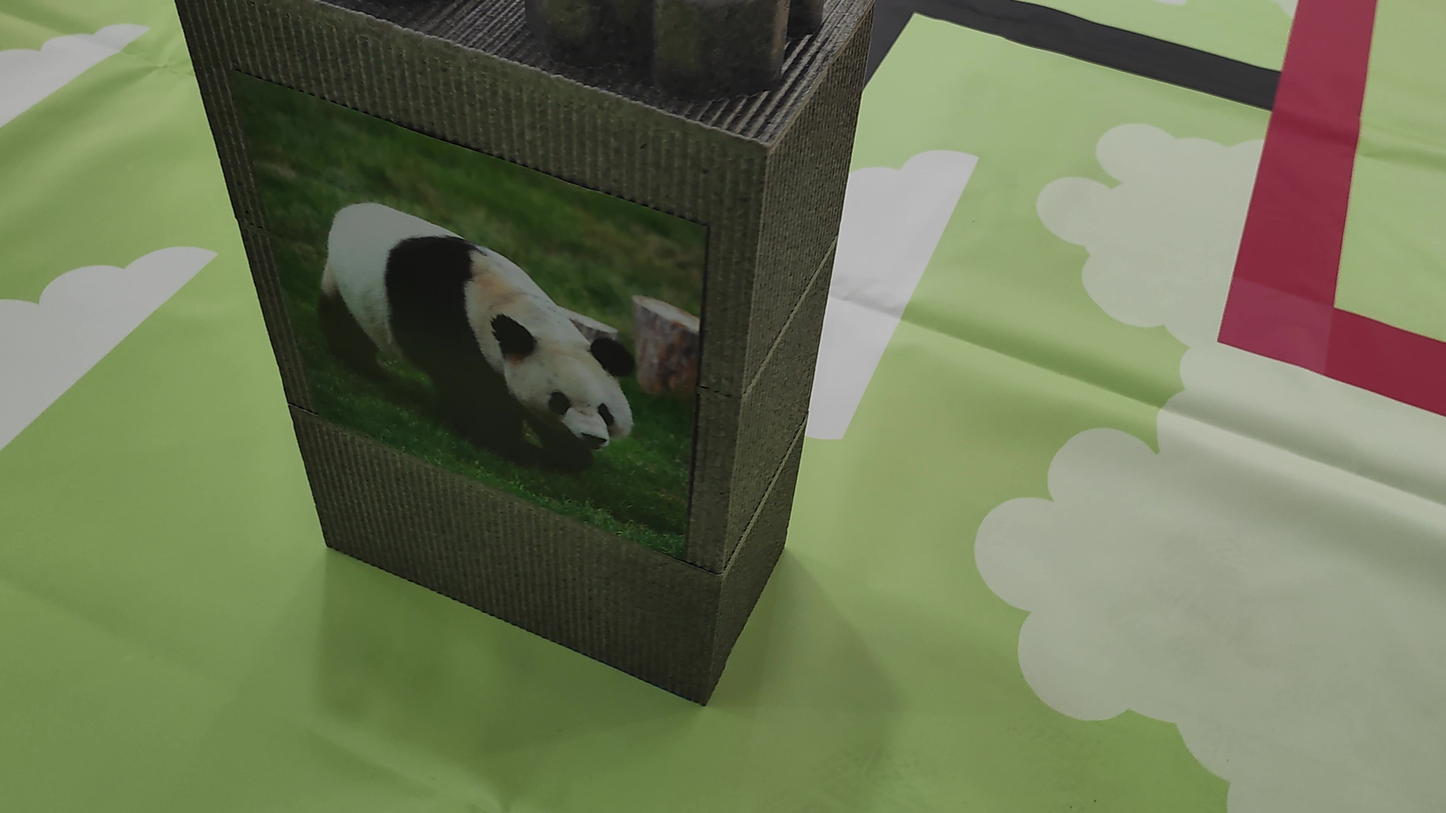panda: (310, 178, 670, 499)
